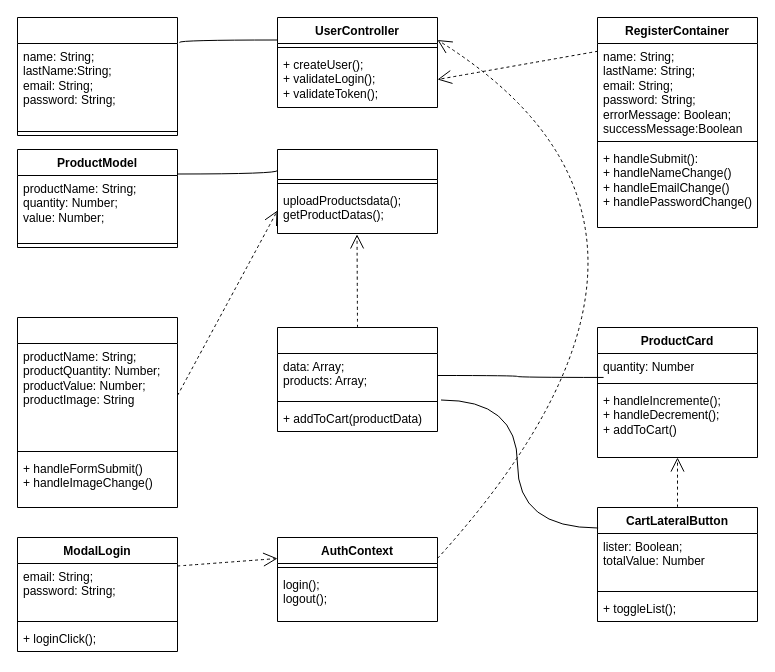
The diagram is 775 pixels wide and 672 high, and some of its shapes have lost their labels. The shapes that lost their labels are listed below. From the top down, each one's box as (x1, y1, x2, y2) in pixels, then its label:
(16, 16, 178, 136): UserModel
(276, 148, 438, 234): ProductController
(276, 326, 438, 432): ShoopPage
(16, 316, 178, 508): ProductsRegisterForm
